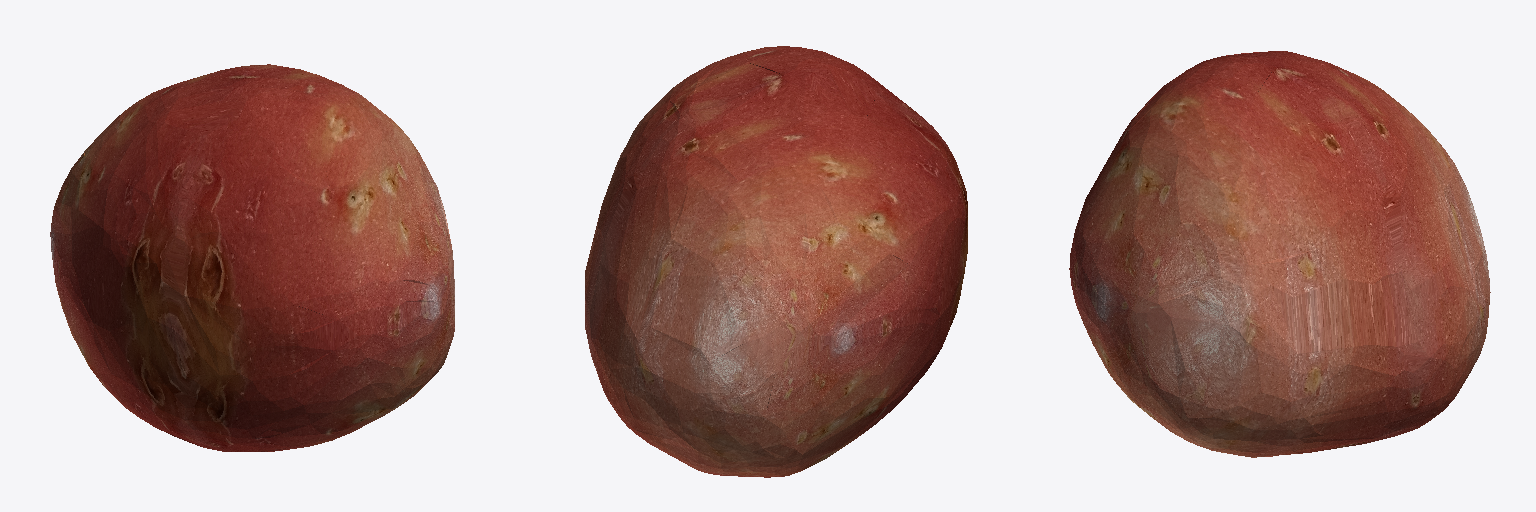
3 views of the same model, side by side, from view 1: azimuth 30°, elevation 25°; view 2: azimuth 150°, elevation 25°; view 3: azimuth 270°, elevation 25° (orthographic).
Visible parts, largest first — view 1: Asteroid; view 2: Asteroid; view 3: Asteroid.
Boxes of the visible parts, <box> form: Asteroid: <box>50,64,454,451</box>; Asteroid: <box>585,46,967,477</box>; Asteroid: <box>1069,51,1490,457</box>.
Bounding box in the file's own units: 4.38 × 4.56 × 4.7.
1 materials, 1 textured.